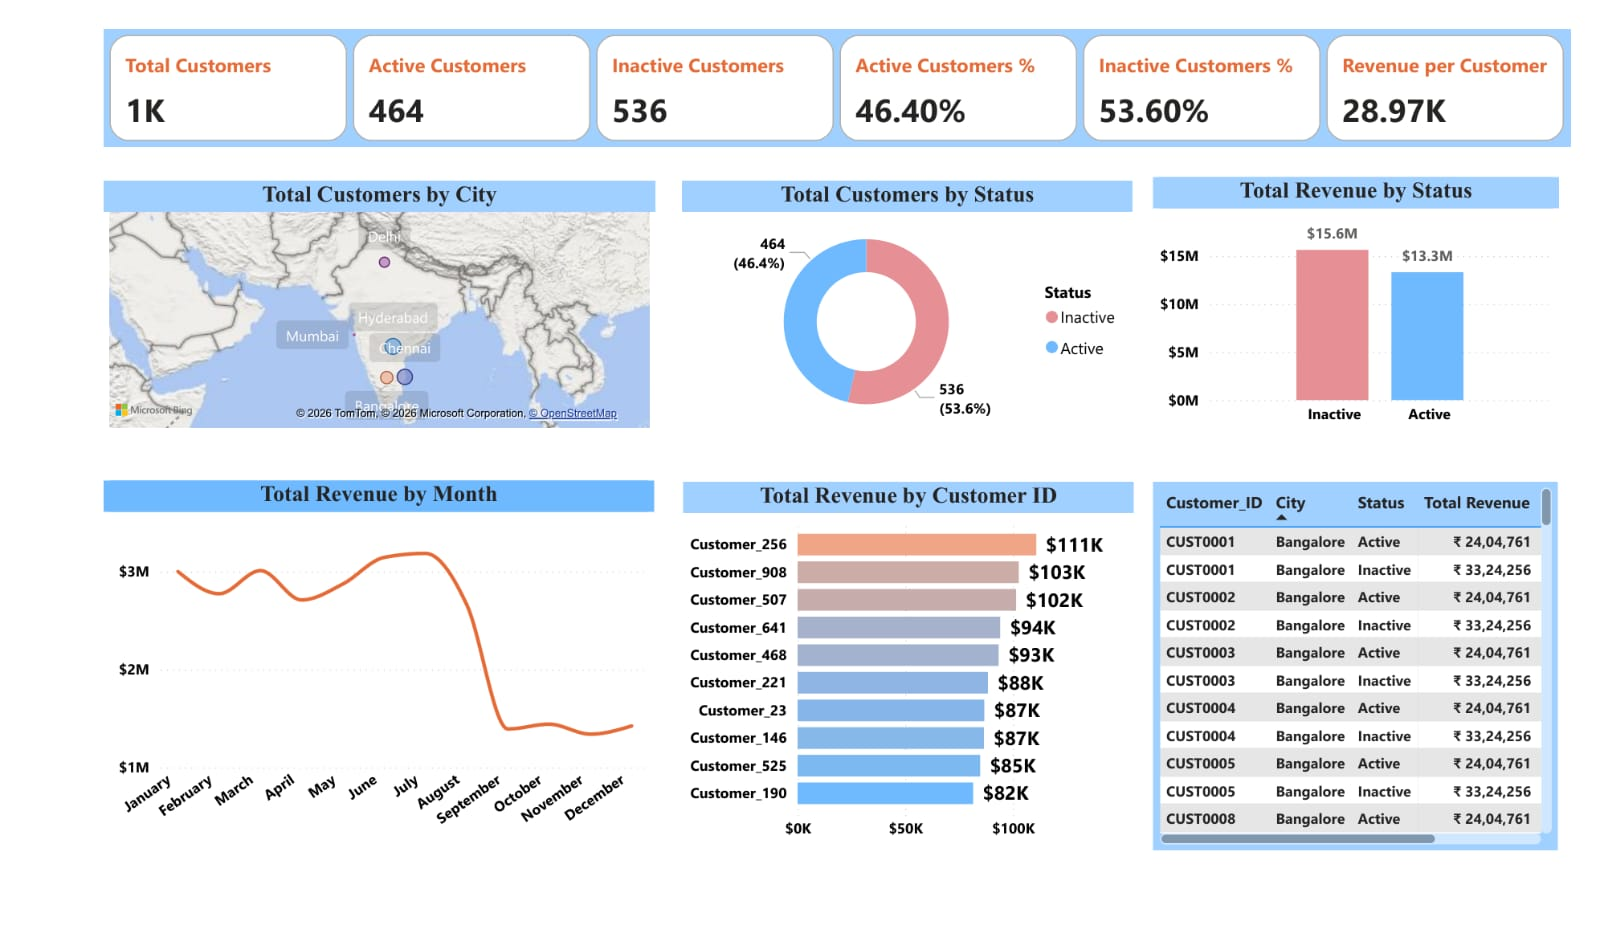

The page's visual inventory and layout, read from the dashboard file:
{"tool":"powerbi","page":{"name":"Customer Analytics ","canvas":[1280,720],"ordinal":1},"visuals":[{"type":"cardVisual","fields":{"Data":["Measure.Total Customers","Measure.Active Customers","Measure.Inactive Customers","Measure.Active Customers %","Measure.Inactive Customers %","Measure.Revenue per Customer"]},"box":[62,0,1217.7,98.1],"z":0},{"type":"map","fields":{"Category":["Customers.City"],"Size":["Measure.Total Customers"]},"box":[62.3,126.4,457.4,210],"z":1000},{"type":"donutChart","fields":{"Category":["Customers.Status"],"Y":["Measure.Total Customers"]},"box":[542.5,125.5,373.7,213.5],"z":2000},{"type":"clusteredColumnChart","fields":{"Y":["Measure.Total Revenue"],"Category":["Customers.Status"]},"box":[933.5,122.6,336.2,215],"z":3000},{"type":"lineChart","fields":{"Y":["Measure.Total Revenue"],"Category":["Calendar table.Month"]},"box":[62,375.1,457.4,305.9],"z":4000},{"type":"barChart","title":"Total Revenue by Customer ID","fields":{"Y":["Measure.Total Revenue"],"Category":["Customers.Name"]},"box":[542.8,375.5,373.8,306.1],"z":5000},{"type":"tableEx","fields":{"Values":["CRM_Data.Customer_ID","Customers.City","Customers.Status","Measure.Total Revenue","Measure.Total Transactions"]},"box":[932.6,375.5,336.4,306.1],"z":6000}]}

Visuals, with their boxes in screenshot pixels (x1, y1, x2, y2), scaled from the page's 1280x720 canvas onto the 1600x925 screenshot:
cardVisual - Measure.Total Customers x Measure.Active Customers: [78,0,1599,126]
map - Customers.City x Measure.Total Customers: [78,162,650,432]
donutChart - Customers.Status x Measure.Total Customers: [678,161,1145,436]
clusteredColumnChart - Measure.Total Revenue x Customers.Status: [1167,158,1587,434]
lineChart - Measure.Total Revenue x Calendar table.Month: [78,482,649,875]
"Total Revenue by Customer ID" barChart: [678,482,1146,876]
tableEx - CRM_Data.Customer_ID x Customers.City: [1166,482,1586,876]
